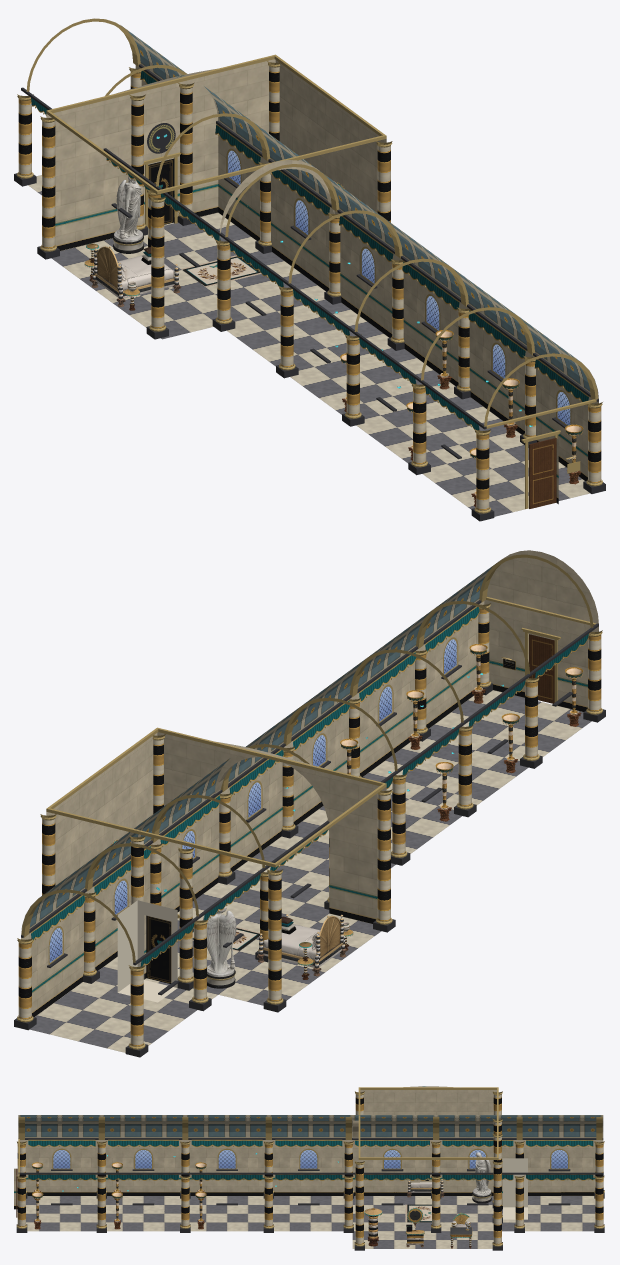
Rendered from rdwe_god_thanatos.glb.
3 views of the same model, one above another, from view 1: azimuth 30°, elevation 25°; view 2: azimuth 150°, elevation 25°; view 3: azimuth 270°, elevation 25° (orthographic). The views are drawn at different scales.
Visible parts, largest first — view 1: apse_Wall_Cream, Floor_Checker, Wall_Cream, apse_Floor_Checker, Column_Band, apse_Column_Band, Gold_Trim, Vault_Coffer, Black_Stone, apse_Gold_Trim, Valance_Teal, apse_Thanatos_TH-05_bed (+15 smaller); view 2: Wall_Cream, apse_Wall_Cream, Floor_Checker, Column_Band, apse_Column_Band, apse_Floor_Checker, Gold_Trim, Vault_Coffer, apse_Gold_Trim, Black_Stone, Valance_Teal, ext5_Ext_Floor_Checker (+24 smaller); view 3: Wall_Cream, Floor_Checker, Vault_Coffer, apse_Floor_Checker, Valance_Teal, apse_Wall_Cream, Column_Band, Gold_Trim, Black_Stone, apse_Column_Band, apse_Gold_Trim, ext5_Ext_Wall_Cream (+40 smaller).
Boxes of the visible parts, bbox=[...] form: apse_Wall_Cream: bbox=[46, 59, 386, 250]; Floor_Checker: bbox=[227, 299, 589, 516]; Wall_Cream: bbox=[334, 210, 598, 504]; apse_Floor_Checker: bbox=[51, 212, 325, 339]; Column_Band: bbox=[217, 217, 601, 510]; apse_Column_Band: bbox=[42, 66, 390, 328]; Gold_Trim: bbox=[215, 164, 602, 513]; Vault_Coffer: bbox=[318, 170, 598, 398]; Black_Stone: bbox=[212, 209, 605, 521]; apse_Gold_Trim: bbox=[40, 54, 392, 331]; Valance_Teal: bbox=[229, 216, 588, 430]; apse_Thanatos_TH-05_bed: bbox=[90, 245, 181, 306]; Wall_Cream: bbox=[220, 550, 598, 873]; apse_Wall_Cream: bbox=[46, 732, 386, 979]; Floor_Checker: bbox=[228, 690, 591, 907]; Column_Band: bbox=[219, 608, 601, 897]; apse_Column_Band: bbox=[42, 739, 390, 1001]; apse_Floor_Checker: bbox=[104, 883, 381, 1005]; Gold_Trim: bbox=[218, 554, 602, 902]; Vault_Coffer: bbox=[228, 561, 499, 783]; apse_Gold_Trim: bbox=[40, 727, 392, 1004]; Black_Stone: bbox=[218, 600, 605, 909]; Valance_Teal: bbox=[229, 606, 588, 797]; ext5_Ext_Floor_Checker: bbox=[29, 1003, 168, 1052]; Wall_Cream: bbox=[14, 1140, 352, 1209]; Floor_Checker: bbox=[26, 1196, 344, 1231]; Vault_Coffer: bbox=[18, 1115, 352, 1137]; apse_Floor_Checker: bbox=[352, 1196, 502, 1248]; Valance_Teal: bbox=[28, 1140, 342, 1180]; apse_Wall_Cream: bbox=[352, 1090, 502, 1209]; Column_Band: bbox=[17, 1144, 352, 1226]; Gold_Trim: bbox=[16, 1117, 353, 1228]; Black_Stone: bbox=[16, 1138, 353, 1232]; apse_Column_Band: bbox=[355, 1094, 501, 1244]; apse_Gold_Trim: bbox=[354, 1087, 502, 1246]; ext5_Ext_Wall_Cream: bbox=[561, 1140, 603, 1195].
Size of the model in its own units: 8.52 by 6 by 28.33.
41 materials, 31 textured.
